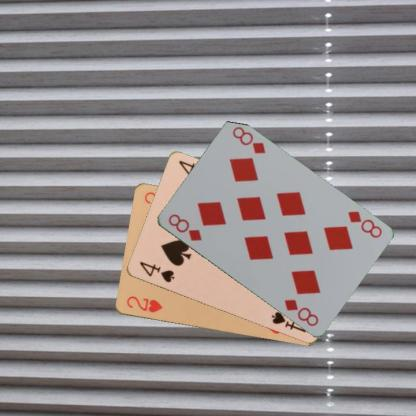2h: (124, 294, 164, 314)
4s: (136, 259, 176, 284)
8d: (344, 208, 383, 240), (165, 211, 203, 243)
